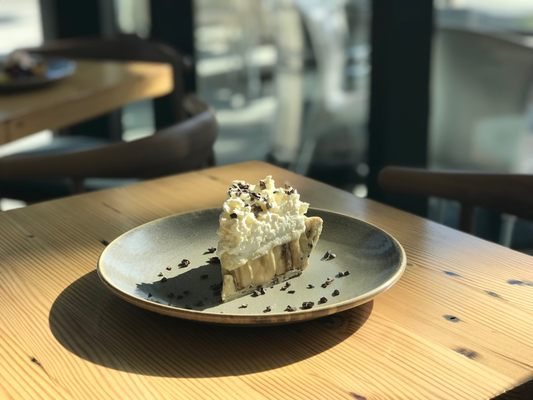curry: (3, 153, 533, 400)
pasta: (0, 34, 220, 207), (376, 165, 533, 252)
sushi: (215, 176, 319, 302)
